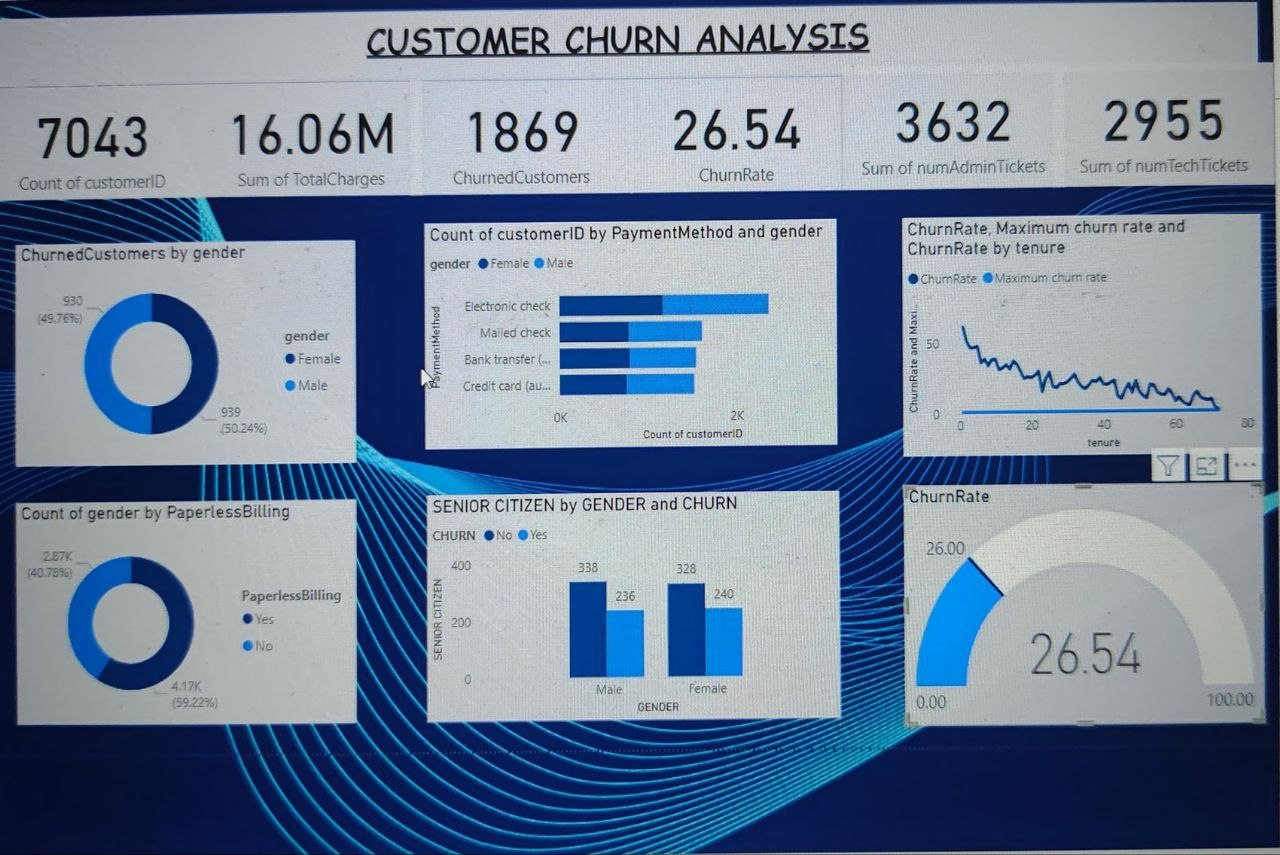

This screenshot's page, from the dashboard's own definition file:
{"tool":"powerbi","page":{"name":"Page 1","canvas":[1280,720],"ordinal":0},"visuals":[{"type":"card","fields":{"Values":["CountNonNull(01 Churn-Dataset.customerID)"]},"box":[1.4,83.7,219.6,108.4],"z":0},{"type":"card","fields":{"Values":["Sum(01 Churn-Dataset.TotalCharges)"]},"box":[219.6,83.7,219,108.4],"z":1000},{"type":"card","fields":{"Values":["Sum(01 Churn-Dataset.numAdminTickets)"]},"box":[853.5,74.1,219.6,118],"z":2000},{"type":"card","fields":{"Values":["Sum(01 Churn-Dataset.numTechTickets)"]},"box":[1060.7,75.5,219.6,116.6],"z":3000},{"type":"donutChart","fields":{"Category":["01 Churn-Dataset.gender"],"Y":["01 Churn-Dataset.ChurnedCustomers"]},"box":[34.3,234.6,337.6,211.3],"z":4000},{"type":"barChart","fields":{"Category":["01 Churn-Dataset.PaymentMethod"],"Y":["CountNonNull(01 Churn-Dataset.customerID)"],"Series":["01 Churn-Dataset.gender"]},"box":[440.5,219.6,407.5,214.1],"z":5000},{"type":"donutChart","fields":{"Category":["01 Churn-Dataset.PaperlessBilling"],"Y":["CountNonNull(01 Churn-Dataset.gender)"]},"box":[34.3,480.3,337.6,211.3],"z":6000},{"type":"card","fields":{"Values":["01 Churn-Dataset.ChurnedCustomers"]},"box":[426.8,83.7,219.6,108.4],"z":7000},{"type":"card","fields":{"Values":["01 Churn-Dataset.ChurnRate"]},"box":[644.9,83.7,208.6,108.4],"z":8000},{"type":"clusteredColumnChart","fields":{"Category":["01 Churn-Dataset.gender"],"Y":["Sum(01 Churn-Dataset.SeniorCitizen)"],"Series":["01 Churn-Dataset.Churn"]},"box":[441.9,477.5,407.5,214.1],"z":9000},{"type":"lineChart","fields":{"Category":["01 Churn-Dataset.tenure"],"Y":["01 Churn-Dataset.ChurnRate","Max(01 Churn-Dataset.ChurnedCount)"]},"box":[912.5,219.6,352.7,226.4],"z":10000},{"type":"gauge","fields":{"Y":["01 Churn-Dataset.ChurnRate"]},"box":[912.5,473.4,352.7,226.4],"z":11000},{"type":"textbox","box":[0,17.8,1265.2,65.9],"z":12000}]}

Visuals, with their boxes in screenshot pixels (x1, y1, x2, y2):
card - CountNonNull(01 Churn-Dataset.customerID): 0/79/196/190
card - Sum(01 Churn-Dataset.TotalCharges): 195/79/418/190
card - Sum(01 Churn-Dataset.numAdminTickets): 843/69/1067/190
card - Sum(01 Churn-Dataset.numTechTickets): 1054/71/1279/190
donutChart - 01 Churn-Dataset.gender x 01 Churn-Dataset.ChurnedCustomers: 5/233/350/449
barChart - 01 Churn-Dataset.PaymentMethod x CountNonNull(01 Churn-Dataset.customerID): 420/218/837/437
donutChart - 01 Churn-Dataset.PaperlessBilling x CountNonNull(01 Churn-Dataset.gender): 5/484/350/700
card - 01 Churn-Dataset.ChurnedCustomers: 406/79/631/190
card - 01 Churn-Dataset.ChurnRate: 629/79/843/190
clusteredColumnChart - 01 Churn-Dataset.gender x Sum(01 Churn-Dataset.SeniorCitizen): 422/482/838/700
lineChart - 01 Churn-Dataset.tenure x 01 Churn-Dataset.ChurnRate: 903/218/1264/449
gauge - 01 Churn-Dataset.ChurnRate: 903/477/1264/709
textbox: 0/12/1264/79
